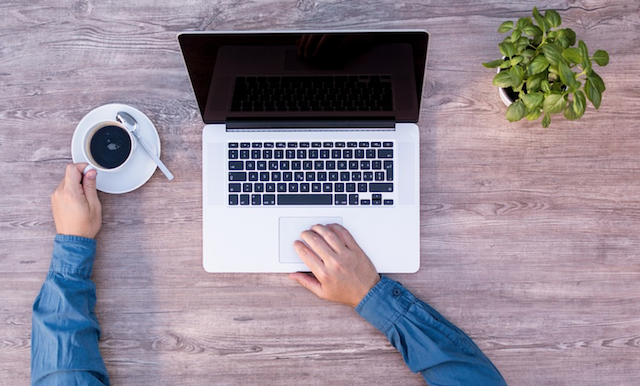computer: (163, 22, 462, 290)
